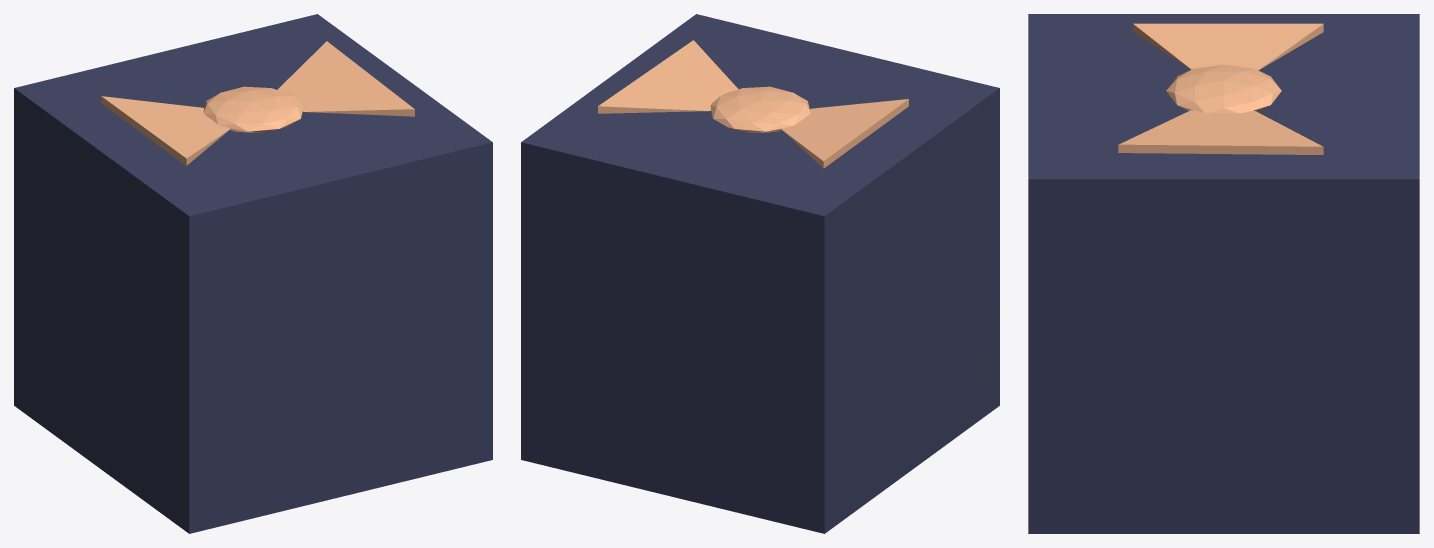
Rendered from ben-shoo.dae.
3 views of the same model, side by side, from view 1: azimuth 30°, elevation 25°; view 2: azimuth 150°, elevation 25°; view 3: azimuth 270°, elevation 25° (orthographic). The views are drawn at different scales.
Visible parts, largest first — view 1: Cube; view 2: Cube; view 3: Cube.
Boxes of the visible parts, box(x1,y1,x2,y2) form: Cube: box(14, 14, 492, 533); Cube: box(521, 14, 999, 533); Cube: box(1028, 14, 1419, 533).
Bounding box in the file's own units: 0.3232 × 0.3232 × 0.3378.
1 material, 1 textured.
